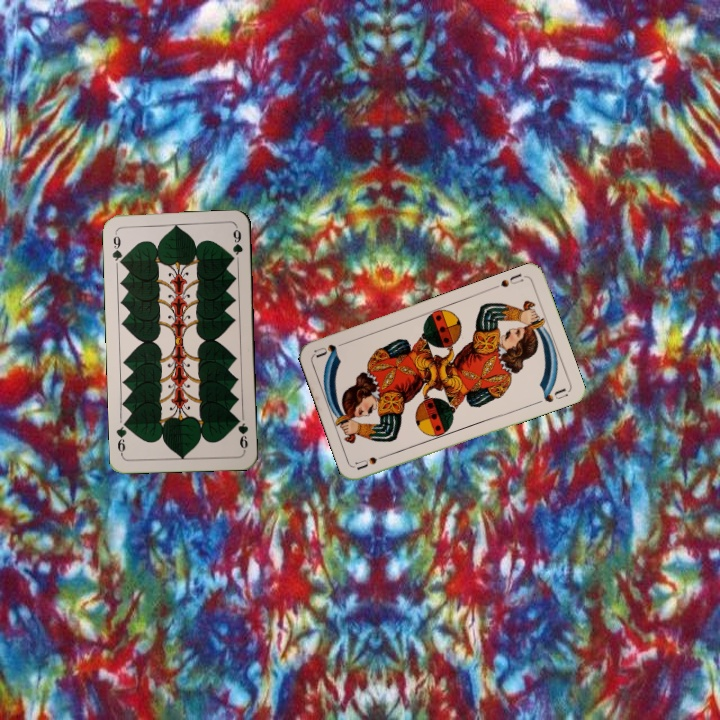G9: (232, 413, 251, 454), (108, 228, 126, 268)
SU: (352, 450, 392, 472), (489, 269, 526, 292)
